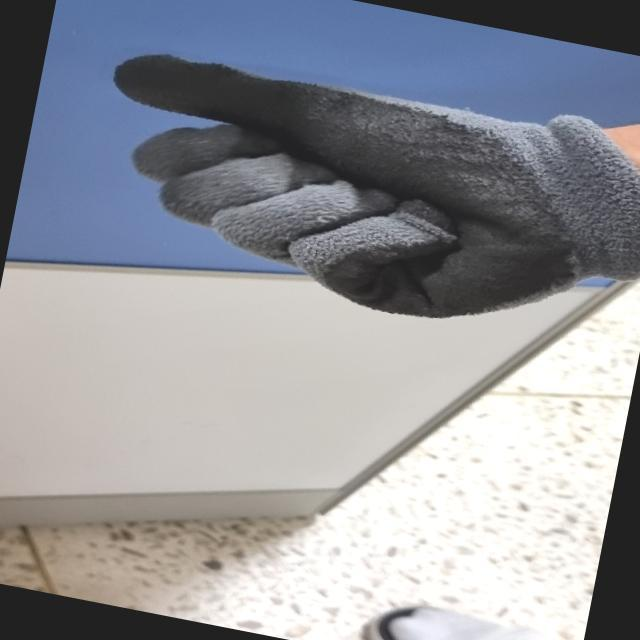Gloves: (97, 47, 640, 324)
